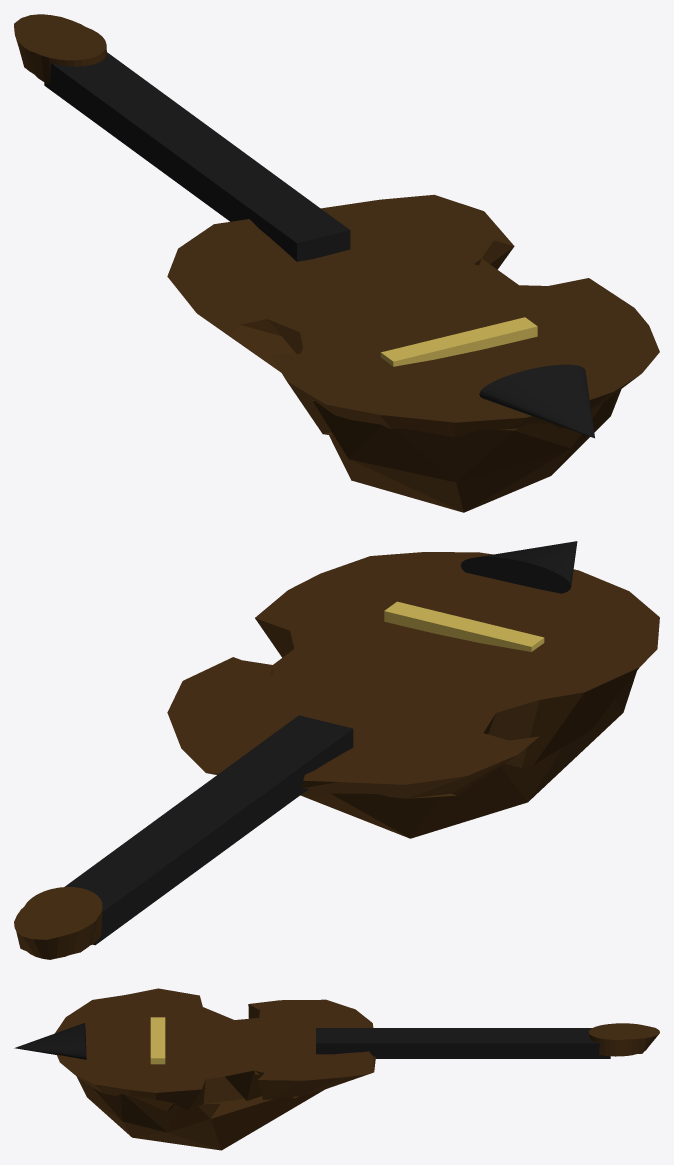
Rendered from viola.fbx.
The picture shows the model from 3 angles, top to bottom: view 1: azimuth 30°, elevation 25°; view 2: azimuth 150°, elevation 25°; view 3: azimuth 270°, elevation 25°; orthographic projection. The views are drawn at different scales.
Visible parts, largest first — view 1: Cilindro, Cubo, Esfera geodésica, Cono, Cilindro.002, Cubo.001; view 2: Cilindro, Cubo, Esfera geodésica, Cilindro.002, Cono, Cubo.001; view 3: Cilindro, Cubo, Esfera geodésica, Cilindro.002, Cono, Cubo.001.
Boxes of the visible parts, <box> form: Cilindro: <box>167,194,659,436</box>; Cubo: <box>44,52,350,261</box>; Esfera geodésica: <box>312,389,621,512</box>; Cono: <box>479,364,594,438</box>; Cilindro.002: <box>14,14,106,84</box>; Cubo.001: <box>380,317,537,366</box>; Cilindro: <box>167,552,659,798</box>; Cubo: <box>65,715,353,945</box>; Esfera geodésica: <box>300,671,636,838</box>; Cilindro.002: <box>14,887,102,959</box>; Cono: <box>460,541,577,593</box>; Cubo.001: <box>384,601,544,651</box>; Cilindro: <box>55,988,375,1109</box>; Cubo: <box>316,1028,610,1058</box>; Esfera geodésica: <box>76,1076,324,1150</box>; Cilindro.002: <box>588,1023,659,1056</box>; Cono: <box>14,1023,86,1059</box>; Cubo.001: <box>150,1017,165,1064</box>.
Size of the model in its own units: 227 by 115 by 628.
